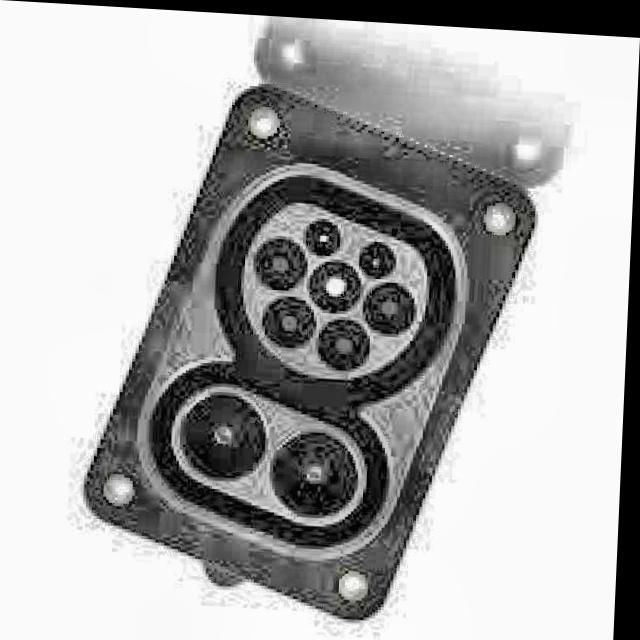inlet: (245, 200, 432, 374)
inlet-above-left: (307, 213, 342, 251)
inlet-above-right: (362, 236, 399, 273)
inlet-below-left: (266, 292, 320, 346)
inlet-below-right: (319, 312, 375, 367)
inlet-center: (309, 254, 365, 311)
inlet-center-left: (256, 231, 309, 290)
inlet-center-right: (365, 277, 418, 331)
